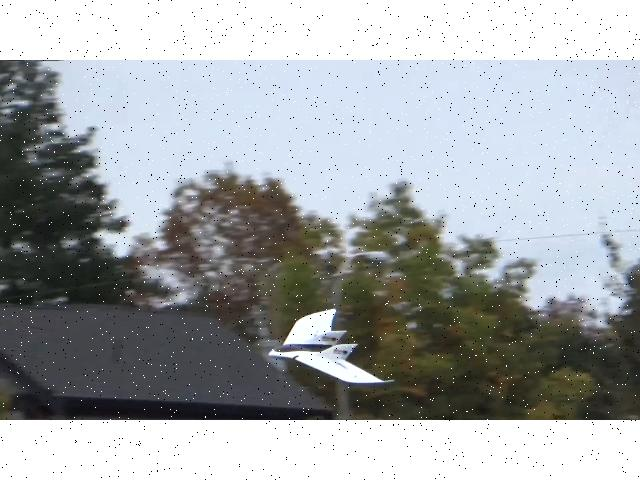Anti-Drone: (268, 310, 394, 382)
